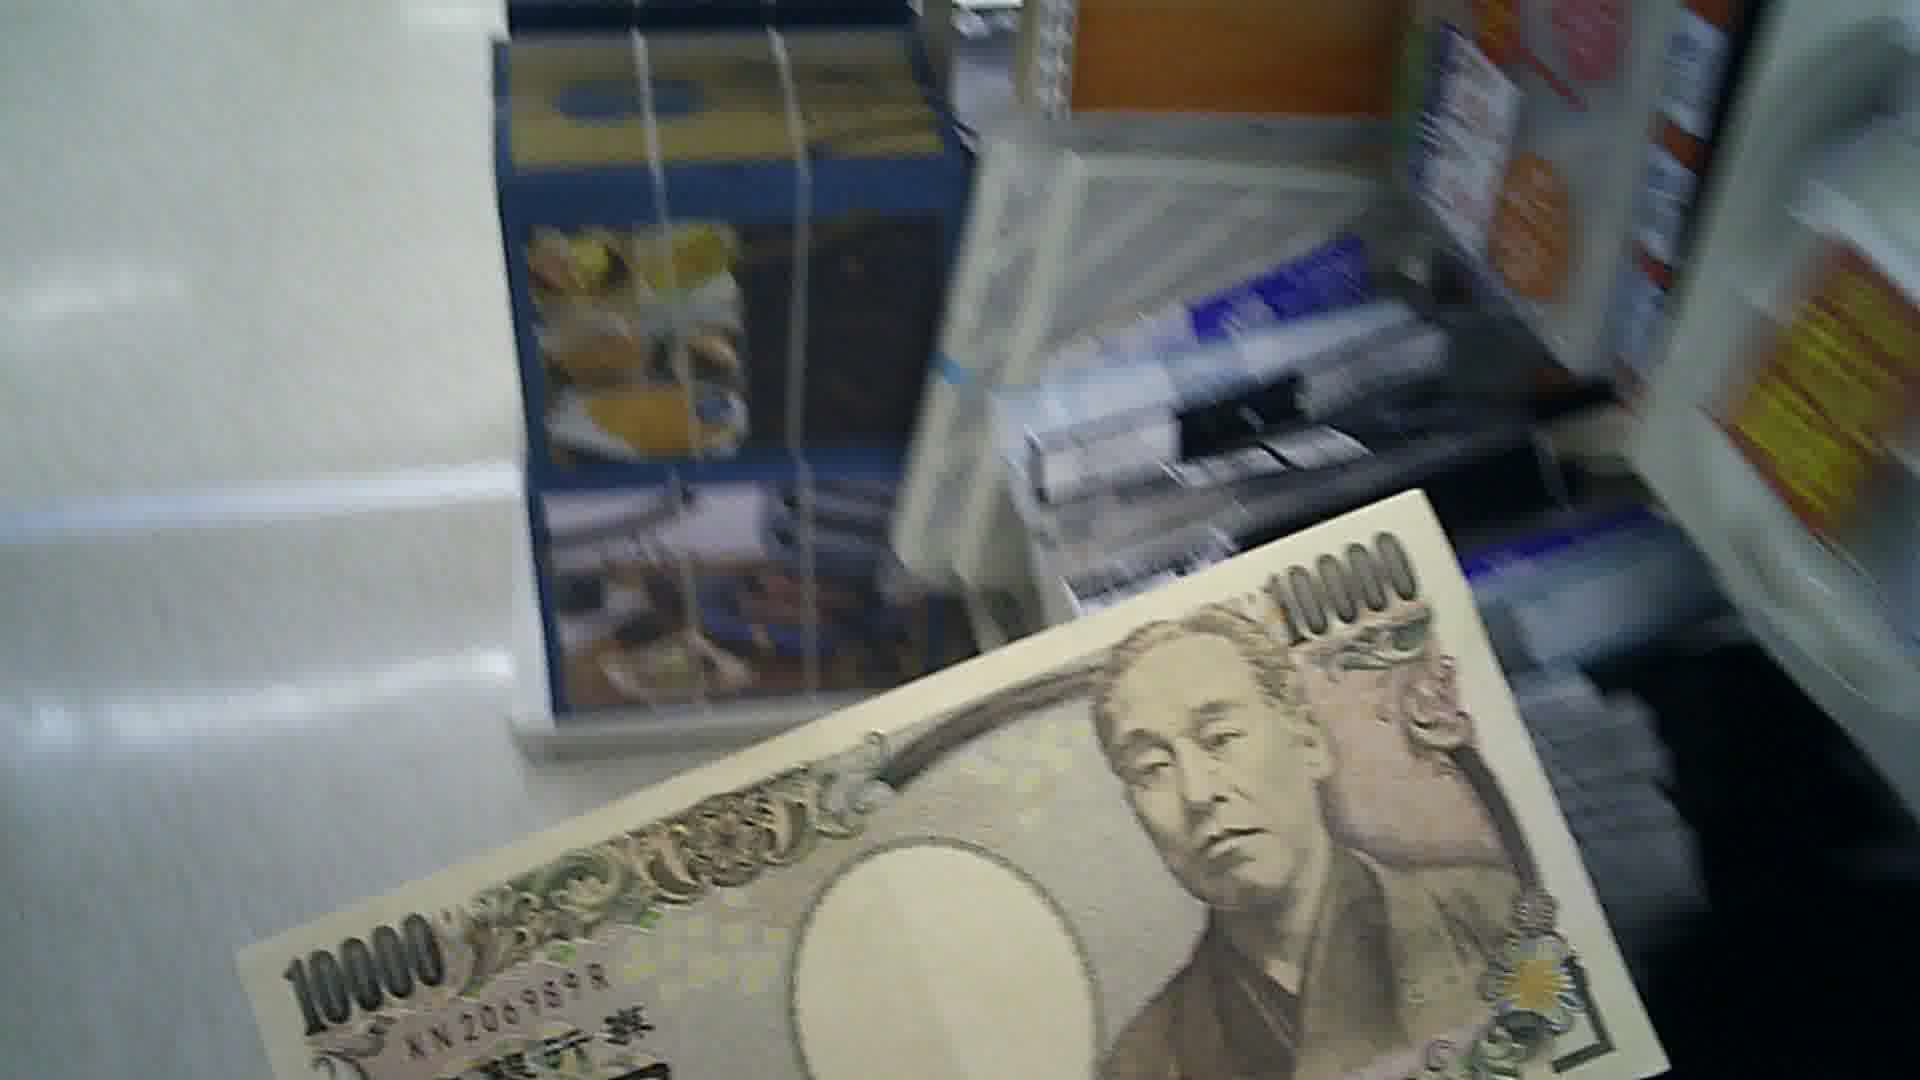10,000 Yen: (258, 509, 1687, 1079)
